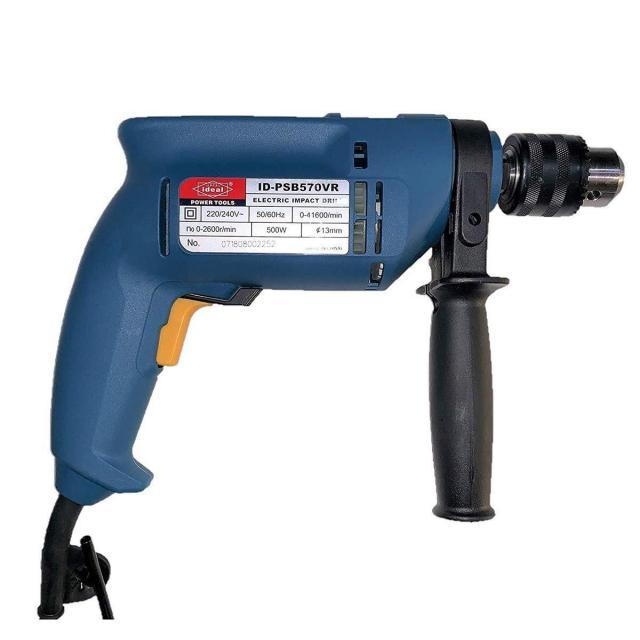drill: (37, 114, 626, 621)
